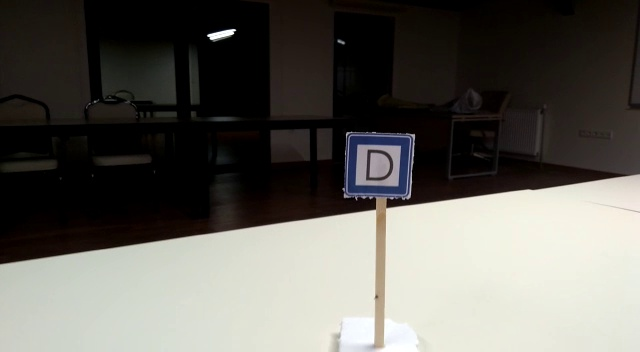durak: (345, 134, 414, 197)
